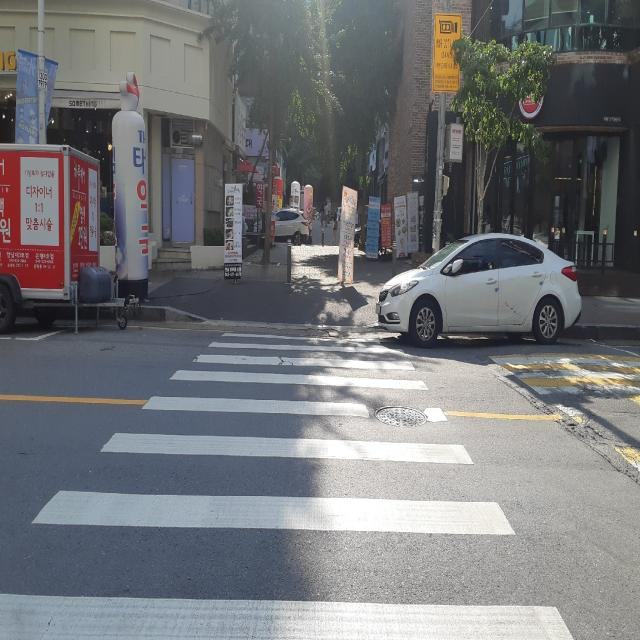횡단보도: (0, 333, 576, 640)
